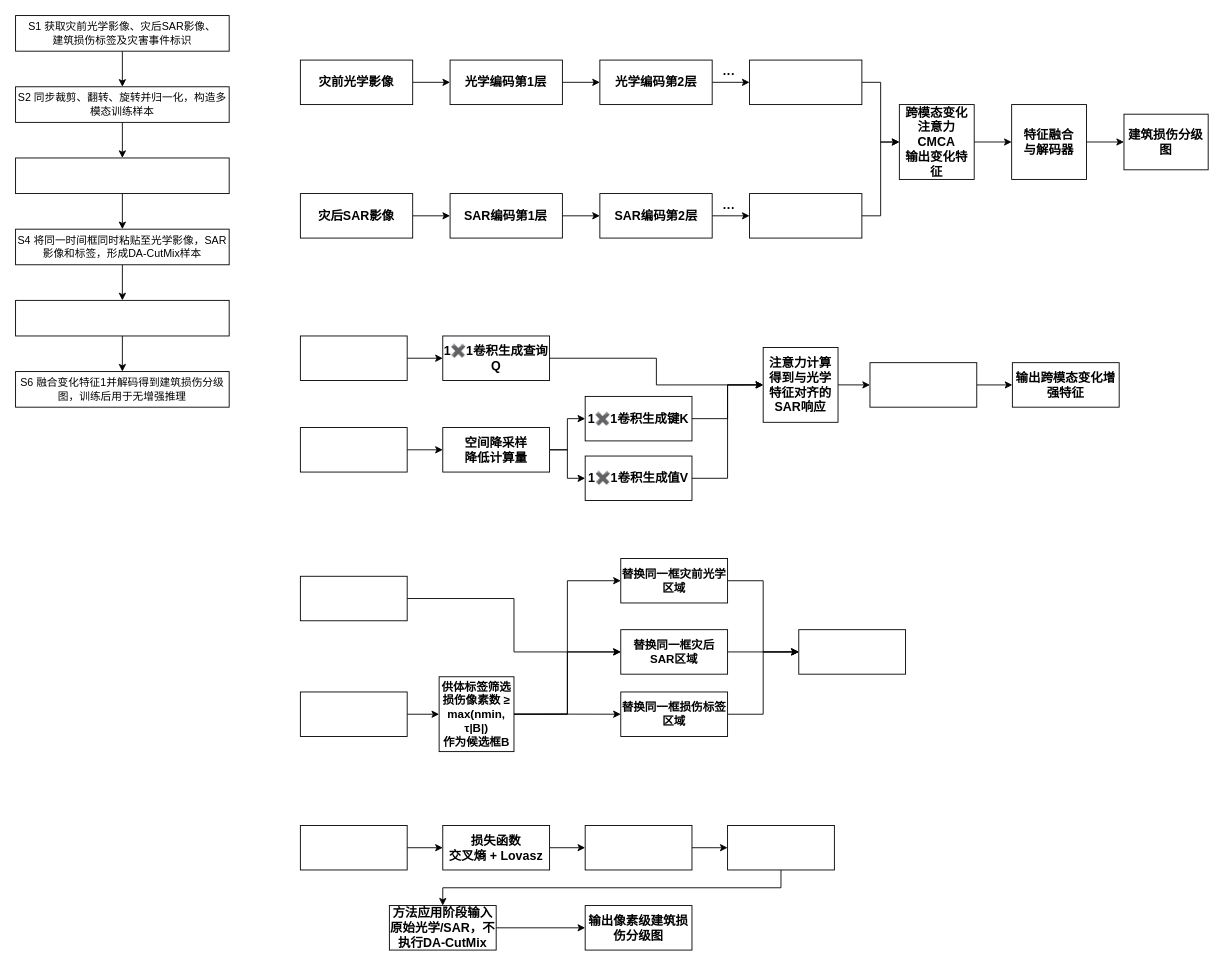
The diagram is 1224 pixels wide and 966 high, and some of its shapes have lost their labels. Each missing label, with the box of its shape:
S3 从不同灾害事件选择供体样本，筛选包含损伤像素的候选区域: (15, 157, 229, 194)
S5 双分支编码光学与SAR特征，在瓶颈层执行跨模态变化注意力: (15, 299, 229, 336)
SAR瓶颈特征Fsar: (299, 427, 407, 472)
SAR编码第n层: (749, 193, 862, 238)
与光学特征拼接并卷积融合: (869, 362, 977, 407)
供体样本 事件B≠A: (299, 691, 407, 736)
保存方法参数: (727, 825, 834, 870)
光学瓶颈特征Fopt: (299, 335, 407, 380)
光学编码第n层: (749, 59, 862, 105)
基础样本 事件A: (299, 575, 407, 621)
混合训练样本: (798, 629, 906, 674)
训练集启用DA-CutMix方法训练CMCA: (299, 825, 407, 870)
验证集选择模型权重: (584, 825, 692, 870)
